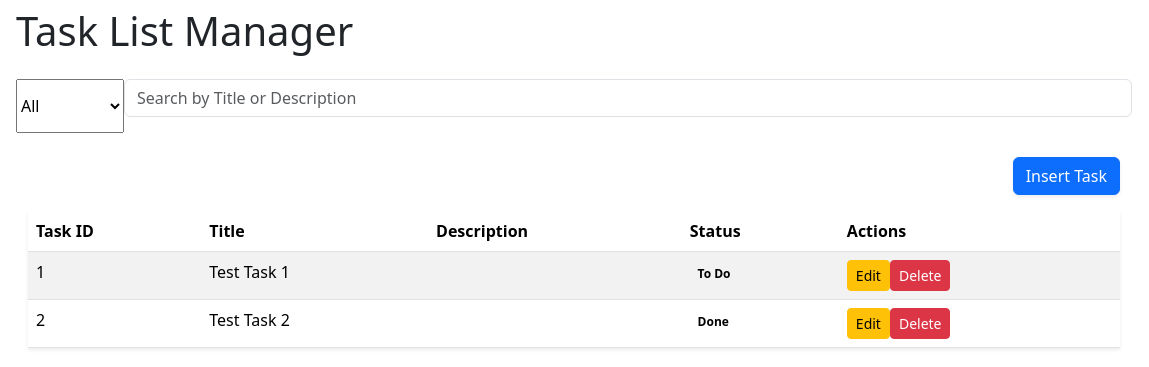
Test case: App Component › can search tasks
Check: the text "Test Task 1" is shown, box left=201, top=252, right=428, bottom=300
# Search for "Task 2"
Type "Task 2" into the field with placeholder "Search by Title or Description" at (628, 98), box left=124, top=79, right=1132, bottom=117
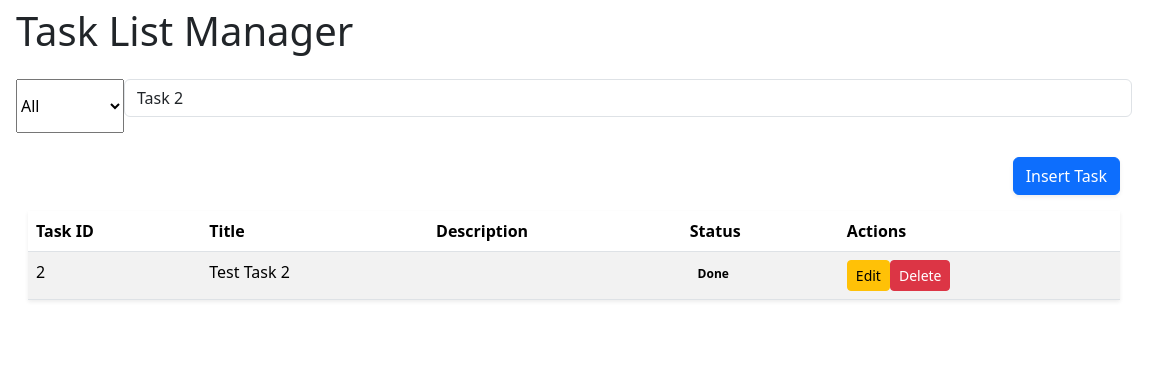
Check: the text "Test Task 2" is shown, box left=201, top=252, right=428, bottom=300
Check: the text "Test Task 1" is gone
